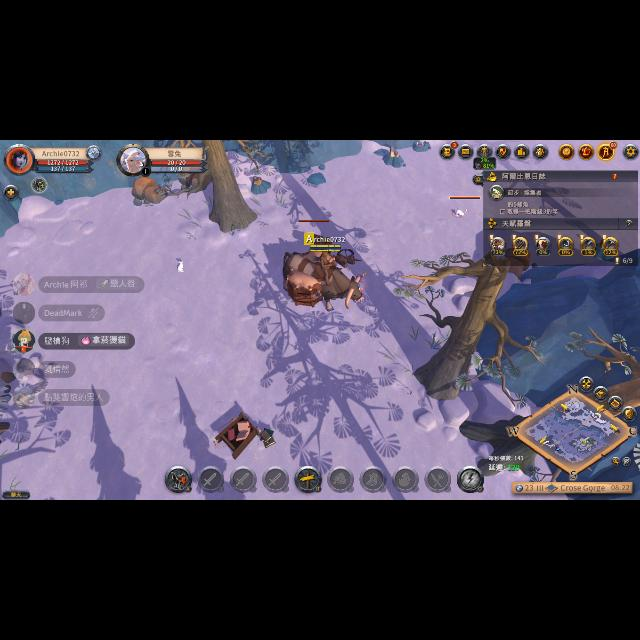mine_ii: (247, 174, 271, 196), (383, 147, 405, 169)
